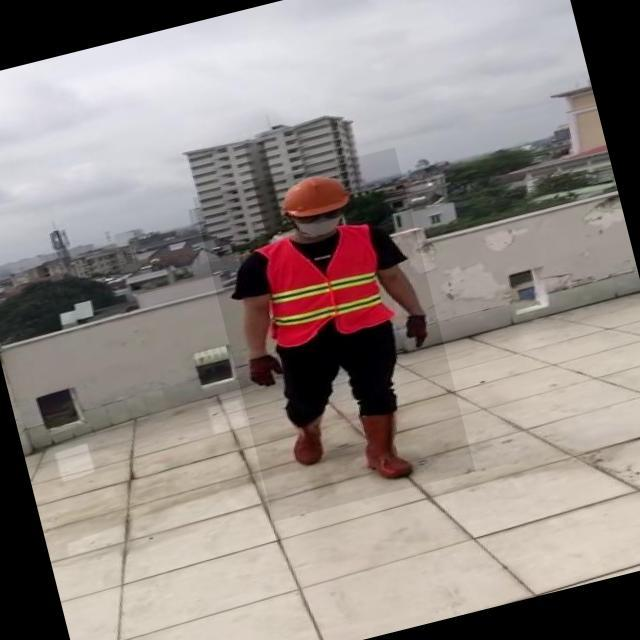Helmet: (271, 164, 355, 225)
Human: (193, 147, 476, 521)
Safety Boot: (355, 402, 417, 484), (284, 412, 333, 469)
Safety Vest: (251, 218, 394, 351)
